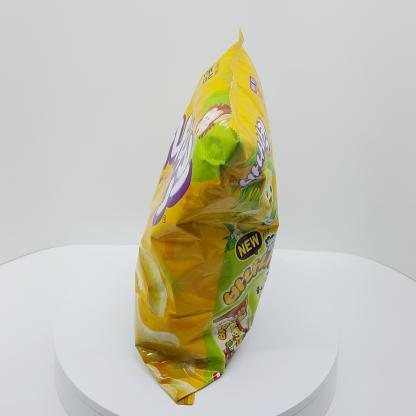Plastic Packaging: (129, 24, 287, 411)
